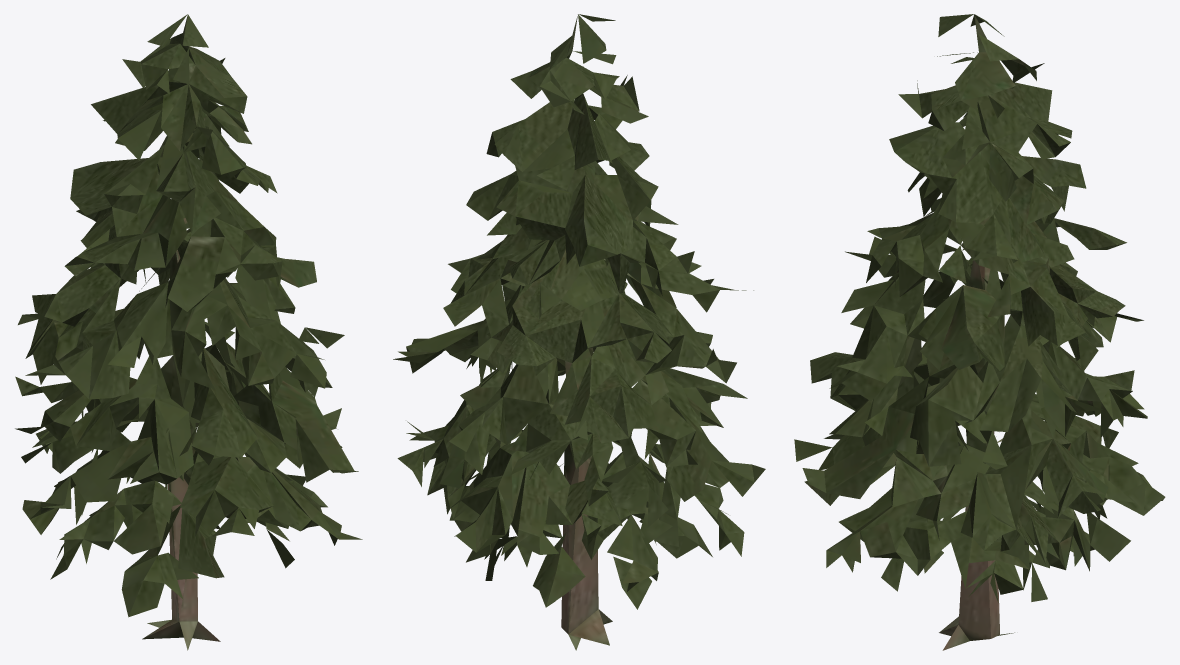
File: pine.glb
3 renders of one model, left to right at view 1: azimuth 30°, elevation 25°; view 2: azimuth 150°, elevation 25°; view 3: azimuth 270°, elevation 25°, orthographic.
Size of the model in its own units: 0.9623 by 1.72 by 0.9199.
1 material, 1 textured.
